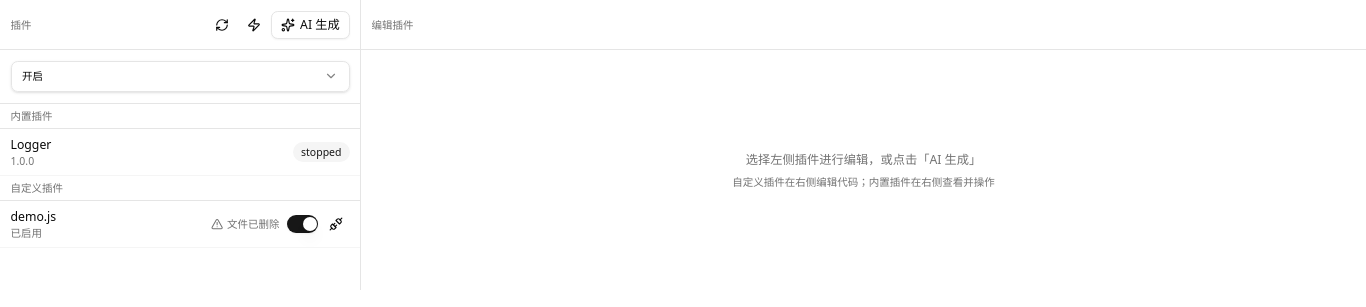
Test: PluginConfig list|edit › opens the built-in plugin in the right pane
Step 1. Click the element with test id "plugin-config-row-builtin-builtin.logger" → (180, 152), box 0,129 -> 360,176
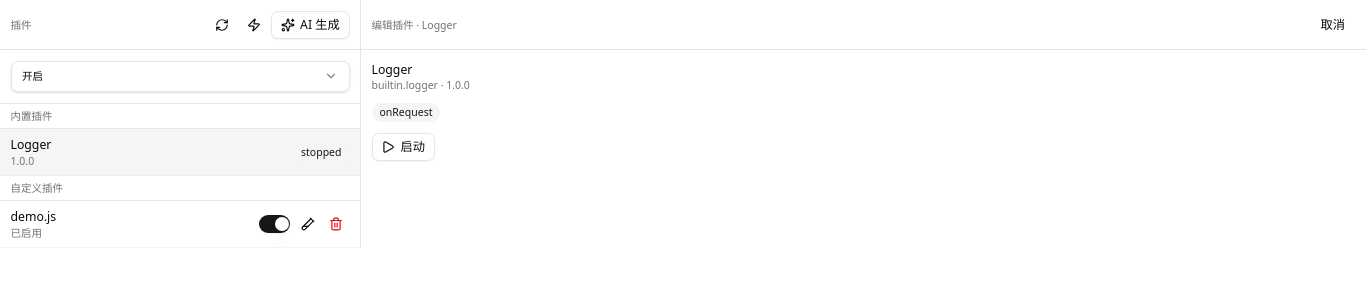
Expected: the element with test id "plugin-config-row-custom-demo.js" is shown, 0,201 -> 360,248
Now the element with test id "plugin-config-edit" shows "builtin.logger · 1.0.0", box 361,0 -> 1365,248
Now the button with aria-label "启动插件 Logger" is shown, box 372,132 -> 435,160
